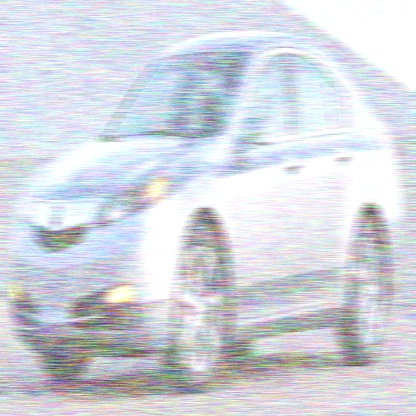Vehicle: (11, 32, 403, 391)
